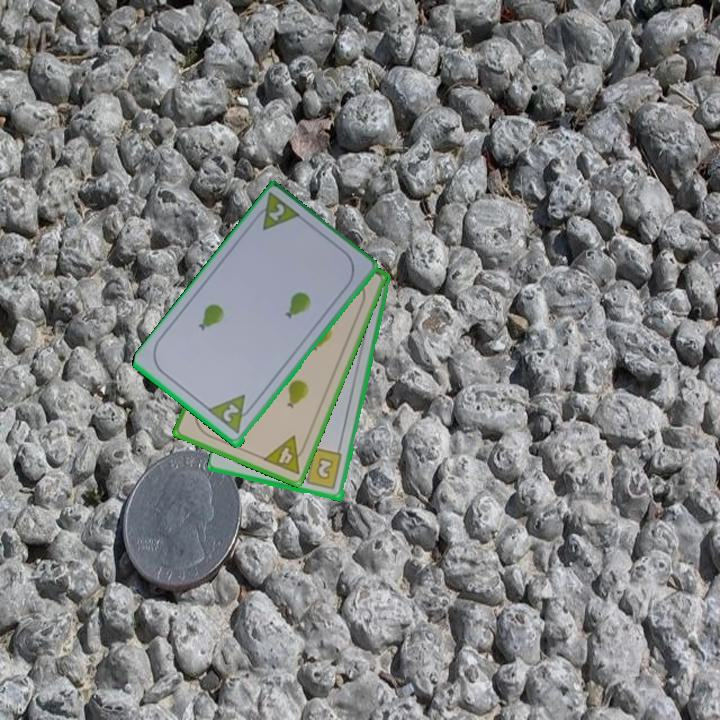2b: (297, 445, 345, 492)
2p: (219, 400, 242, 425), (265, 200, 288, 225)
4p: (259, 432, 311, 478)
